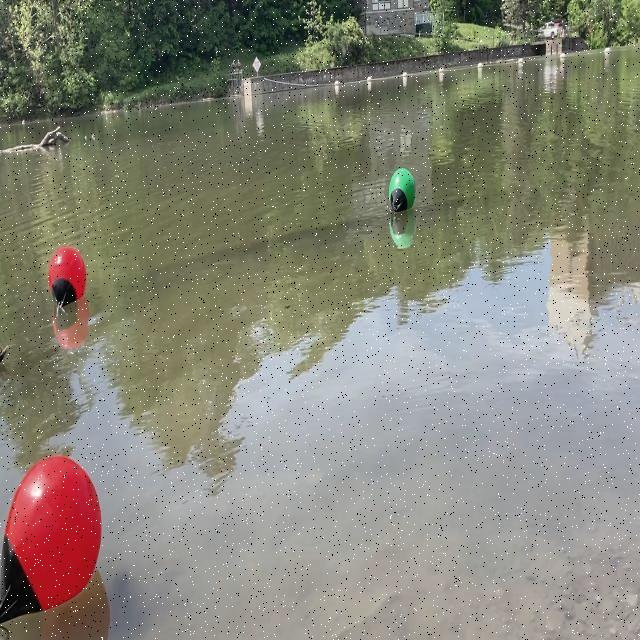buoy: (0, 451, 108, 626), (46, 242, 88, 314), (387, 166, 417, 216)
